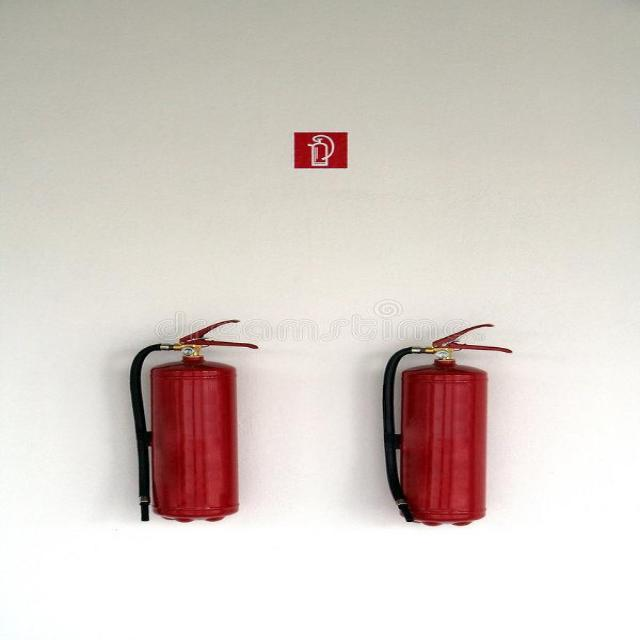fire_extinguisher: (364, 319, 520, 533), (124, 316, 272, 526)
